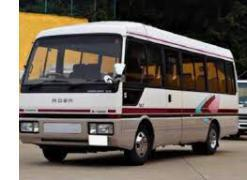bus: (25, 21, 236, 165)
